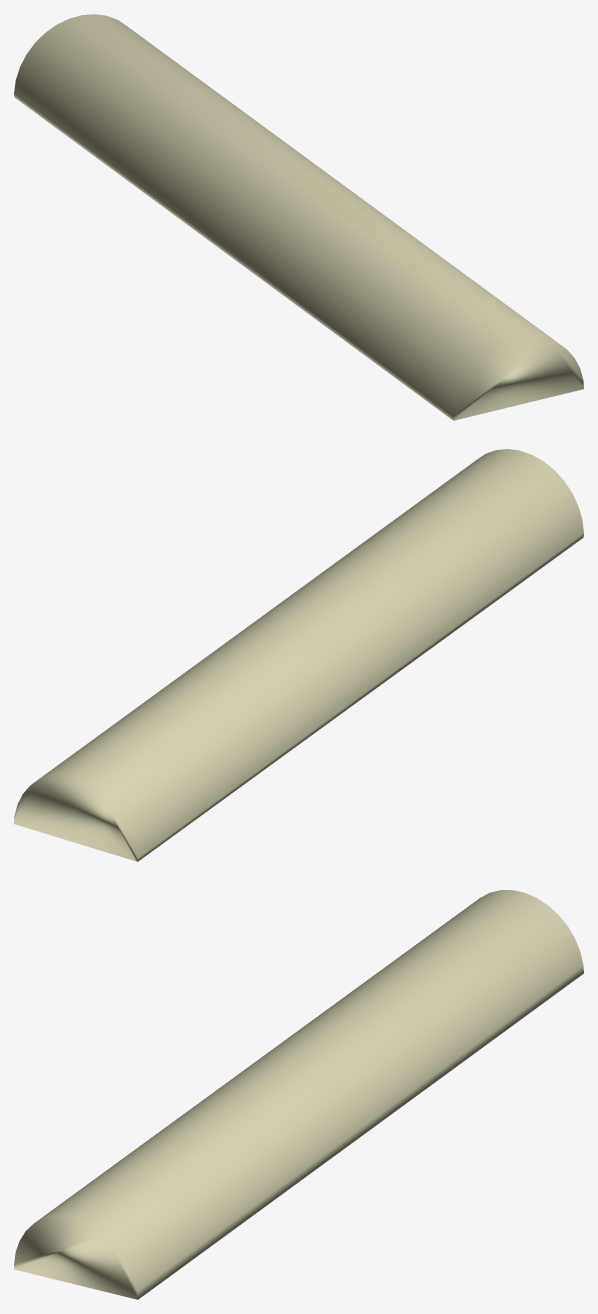
Rendered from SpeedBump.fbx.
The picture shows the model from 3 angles, top to bottom: view 1: azimuth 30°, elevation 25°; view 2: azimuth 150°, elevation 25°; view 3: azimuth 330°, elevation 25°; orthographic projection.
Visible parts, largest first — view 1: Cylinder; view 2: Cylinder; view 3: Cylinder.
Part boxes in pixels (left/top/right/bottom): Cylinder: left=14, top=14, right=583, bottom=420; Cylinder: left=14, top=449, right=583, bottom=861; Cylinder: left=14, top=890, right=583, bottom=1299.
Bounding box in the file's own units: 201 × 103 × 1211.
